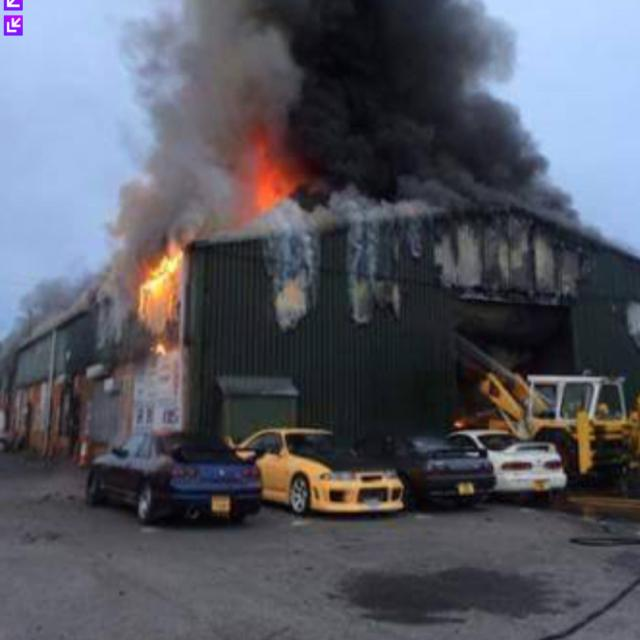fire: (249, 119, 306, 214), (138, 239, 182, 317), (232, 134, 259, 225)
